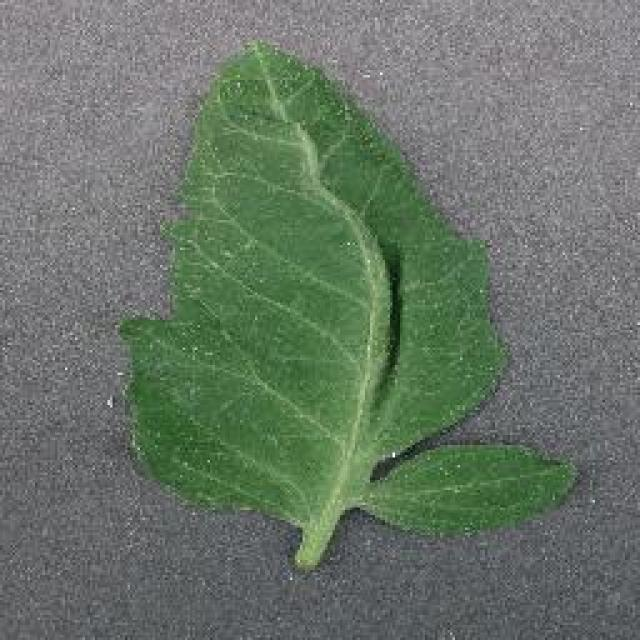Tomato healthy leaf: (112, 39, 590, 551)
